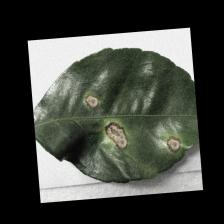canker: (82, 90, 187, 155)
